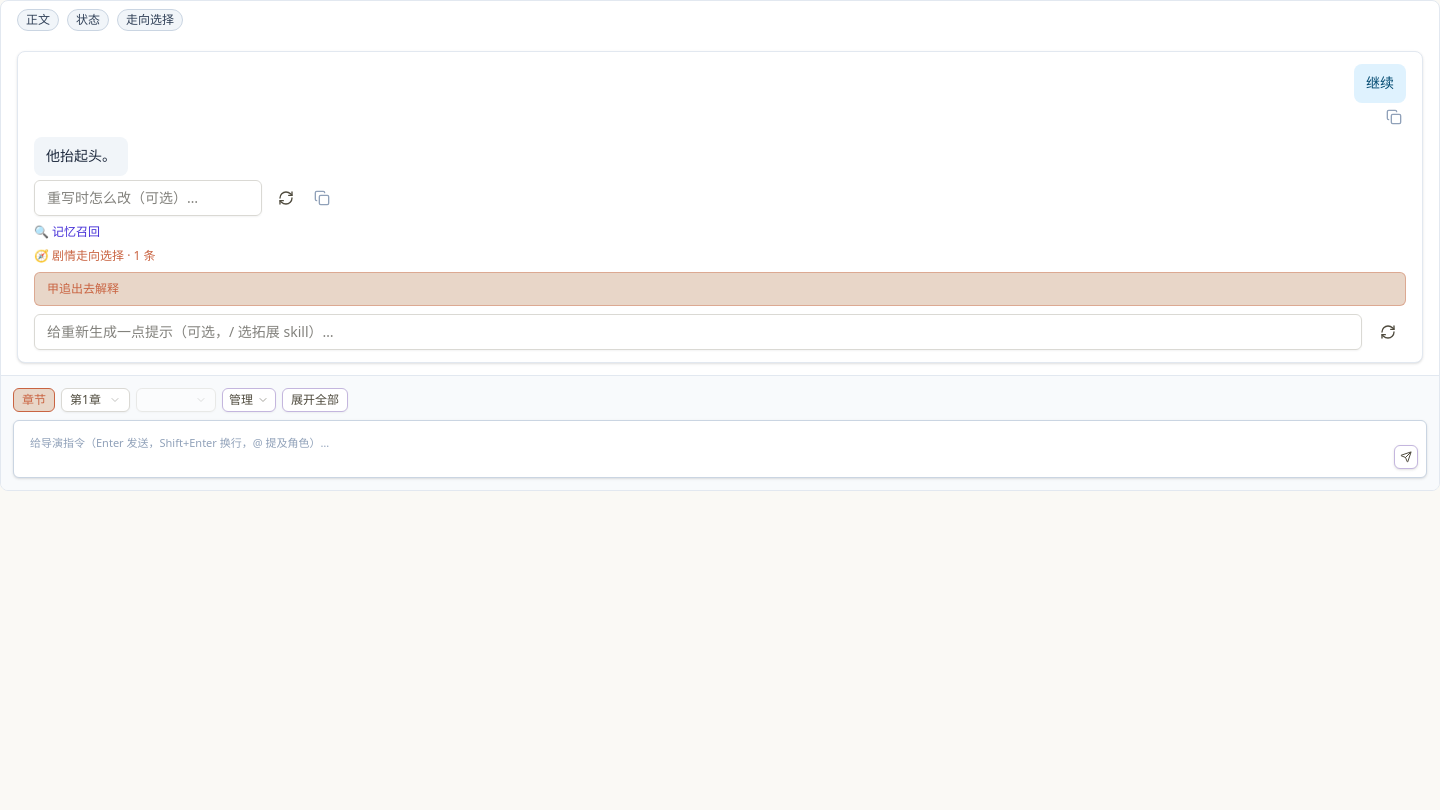
it: StorySandboxPanel › clicking a selected pill again removes it from the composer card
Expected: the text "他抬起头。" is shown, [46,145,116,168]
Click the button "甲追出去解释" at (83, 288), box [34,272,1406,306]
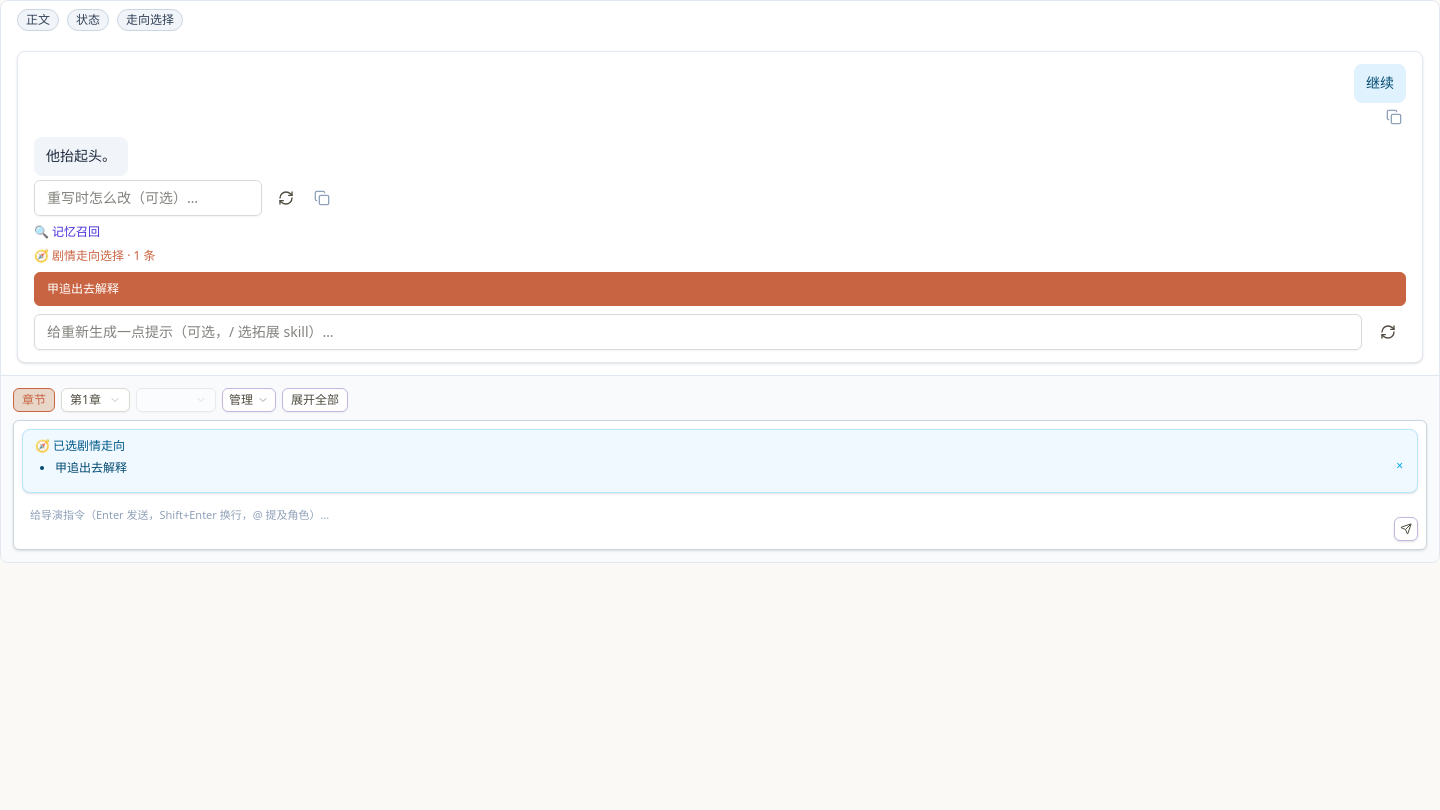
Now the text "🧭 已选剧情走向" is shown, box [35,436,125,454]
Click the button "甲追出去解释" at (83, 288), box [34,272,1406,306]
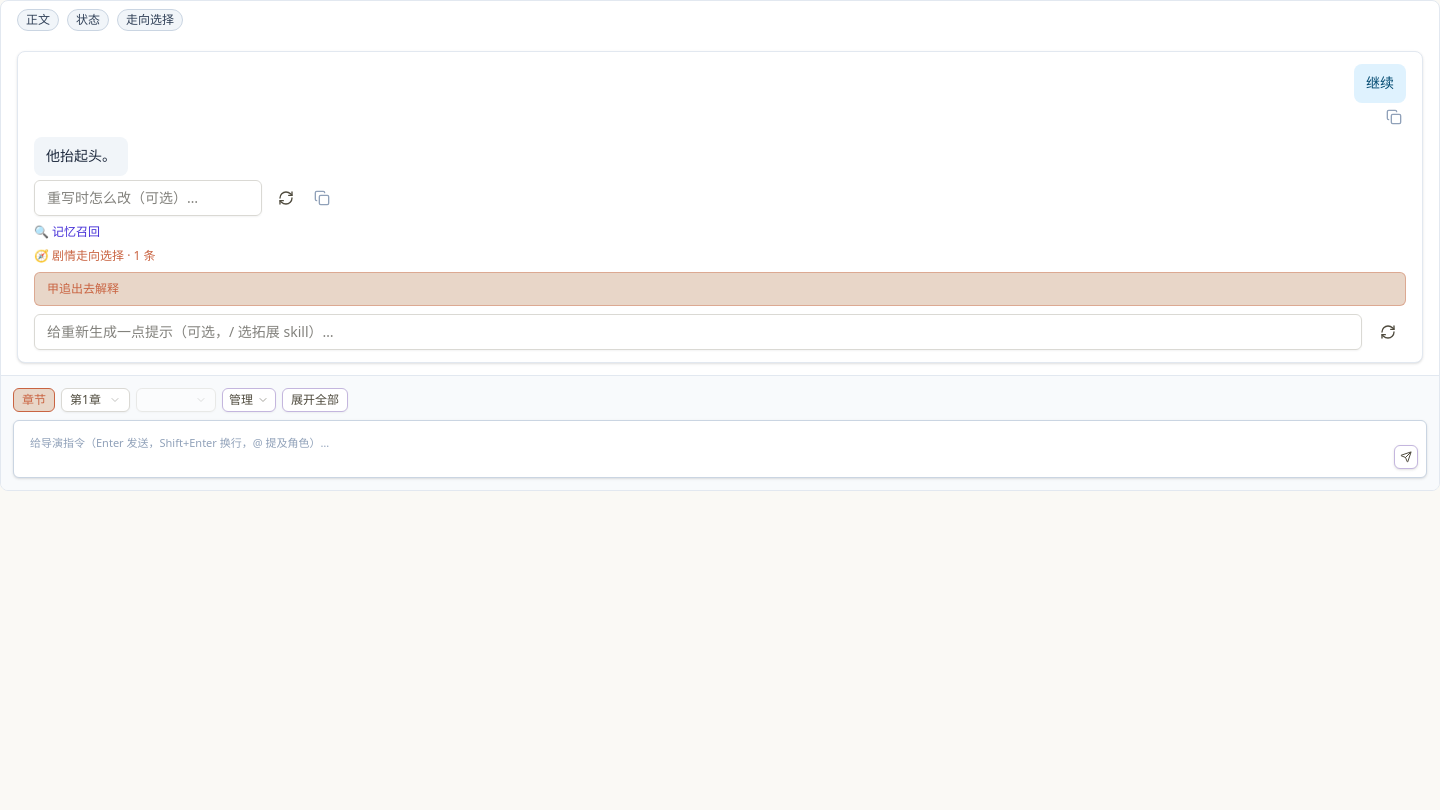
Now the text "🧭 已选剧情走向" is gone
